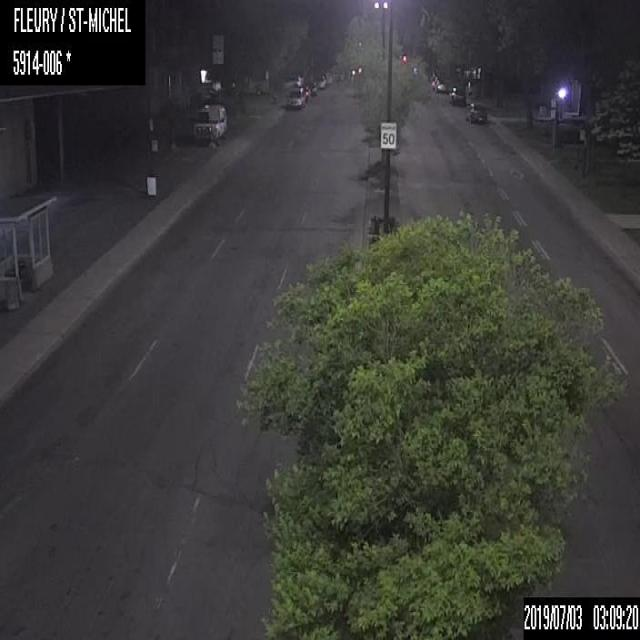vehicle: (189, 103, 228, 144), (464, 100, 486, 123), (286, 88, 304, 108), (448, 87, 464, 104), (434, 77, 449, 93), (296, 84, 310, 101)
